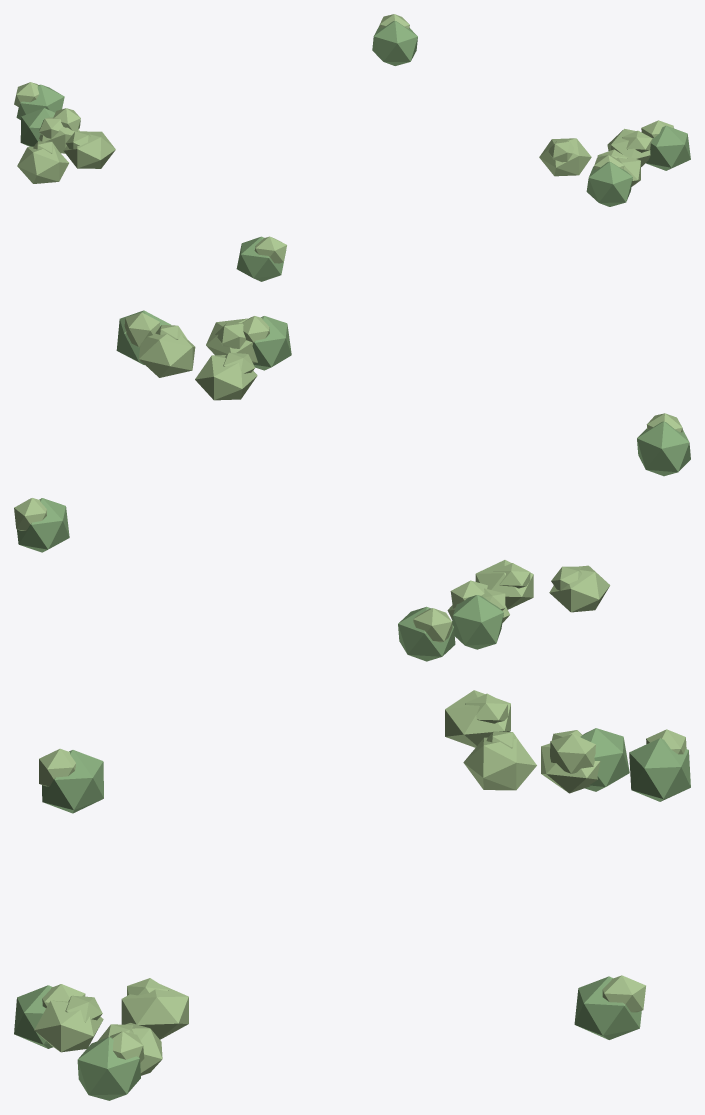
The model's file is forgotten_orchard_gate_wind_canopies.fbx.
3 views of the same model, one above another, from view 1: azimuth 30°, elevation 25°; view 2: azimuth 150°, elevation 25°; view 3: azimuth 270°, elevation 25° (orthographic). The views are drawn at different scales.
Visible parts, largest first — view 1: chunk_forgotten_orchard_gate__tree_canopy_17, chunk_forgotten_orchard_gate__tree_canopy_13, chunk_forgotten_orchard_gate__tree_canopy_24, chunk_forgotten_orchard_gate__tree_canopy_01, chunk_forgotten_orchard_gate__tree_canopy_07, chunk_forgotten_orchard_gate__tree_canopy_11, chunk_forgotten_orchard_gate__tree_canopy_16, chunk_forgotten_orchard_gate__tree_canopy_10, chunk_forgotten_orchard_gate__tree_canopy_04, chunk_forgotten_orchard_gate__tree_canopy_21, chunk_forgotten_orchard_gate__tree_canopy_12, chunk_forgotten_orchard_gate__tree_canopy_22 (+4 smaller); view 2: chunk_forgotten_orchard_gate__tree_canopy_11, chunk_forgotten_orchard_gate__tree_canopy_04, chunk_forgotten_orchard_gate__tree_canopy_21, chunk_forgotten_orchard_gate__tree_canopy_16, chunk_forgotten_orchard_gate__tree_canopy_13, chunk_forgotten_orchard_gate__tree_canopy_01, chunk_forgotten_orchard_gate__tree_canopy_10, chunk_forgotten_orchard_gate__tree_canopy_17, chunk_forgotten_orchard_gate__tree_canopy_07, chunk_forgotten_orchard_gate__tree_canopy_08, chunk_forgotten_orchard_gate__tree_canopy_23, chunk_forgotten_orchard_gate__tree_canopy_20 (+6 smaller); view 3: chunk_forgotten_orchard_gate__tree_canopy_10, chunk_forgotten_orchard_gate__tree_canopy_24, chunk_forgotten_orchard_gate__tree_canopy_07, chunk_forgotten_orchard_gate__tree_canopy_13, chunk_forgotten_orchard_gate__tree_canopy_16, chunk_forgotten_orchard_gate__tree_canopy_11, chunk_forgotten_orchard_gate__tree_canopy_20, chunk_forgotten_orchard_gate__tree_canopy_01, chunk_forgotten_orchard_gate__tree_canopy_04, chunk_forgotten_orchard_gate__tree_canopy_17, chunk_forgotten_orchard_gate__tree_canopy_09, chunk_forgotten_orchard_gate__tree_canopy_06 (+6 smaller).
Boxes of the visible parts, x1,y1,x2,y2 form: chunk_forgotten_orchard_gate__tree_canopy_17: (586, 161, 632, 206); chunk_forgotten_orchard_gate__tree_canopy_13: (372, 21, 417, 65); chunk_forgotten_orchard_gate__tree_canopy_24: (646, 125, 690, 170); chunk_forgotten_orchard_gate__tree_canopy_01: (17, 146, 68, 183); chunk_forgotten_orchard_gate__tree_canopy_07: (63, 131, 115, 168); chunk_forgotten_orchard_gate__tree_canopy_11: (236, 236, 286, 281); chunk_forgotten_orchard_gate__tree_canopy_16: (539, 138, 591, 176); chunk_forgotten_orchard_gate__tree_canopy_10: (16, 84, 64, 119); chunk_forgotten_orchard_gate__tree_canopy_04: (20, 108, 54, 146); chunk_forgotten_orchard_gate__tree_canopy_21: (607, 128, 650, 166); chunk_forgotten_orchard_gate__tree_canopy_12: (254, 236, 286, 263); chunk_forgotten_orchard_gate__tree_canopy_22: (622, 130, 652, 152); chunk_forgotten_orchard_gate__tree_canopy_11: (637, 421, 690, 476); chunk_forgotten_orchard_gate__tree_canopy_04: (452, 595, 503, 649); chunk_forgotten_orchard_gate__tree_canopy_21: (139, 333, 195, 377); chunk_forgotten_orchard_gate__tree_canopy_16: (195, 355, 257, 400); chunk_forgotten_orchard_gate__tree_canopy_13: (17, 498, 69, 552); chunk_forgotten_orchard_gate__tree_canopy_01: (549, 565, 610, 612); chunk_forgotten_orchard_gate__tree_canopy_10: (398, 606, 455, 661); chunk_forgotten_orchard_gate__tree_canopy_17: (252, 316, 291, 370); chunk_forgotten_orchard_gate__tree_canopy_07: (475, 560, 533, 609); chunk_forgotten_orchard_gate__tree_canopy_08: (413, 608, 452, 642); chunk_forgotten_orchard_gate__tree_canopy_23: (124, 312, 160, 347); chunk_forgotten_orchard_gate__tree_canopy_20: (206, 318, 257, 363); chunk_forgotten_orchard_gate__tree_canopy_10: (629, 738, 690, 801); chunk_forgotten_orchard_gate__tree_canopy_24: (77, 1037, 140, 1100); chunk_forgotten_orchard_gate__tree_canopy_07: (463, 737, 536, 790); chunk_forgotten_orchard_gate__tree_canopy_13: (574, 976, 641, 1039); chunk_forgotten_orchard_gate__tree_canopy_16: (121, 984, 188, 1039); chunk_forgotten_orchard_gate__tree_canopy_11: (42, 750, 103, 813); chunk_forgotten_orchard_gate__tree_canopy_20: (34, 1000, 103, 1052); chunk_forgotten_orchard_gate__tree_canopy_01: (445, 690, 510, 747); chunk_forgotten_orchard_gate__tree_canopy_04: (580, 728, 629, 791); chunk_forgotten_orchard_gate__tree_canopy_17: (14, 985, 52, 1048); chunk_forgotten_orchard_gate__tree_canopy_09: (550, 734, 595, 773); chunk_forgotten_orchard_gate__tree_canopy_06: (541, 743, 600, 793).
Bounding box in the file's own units: 221 × 21.04 × 173.
